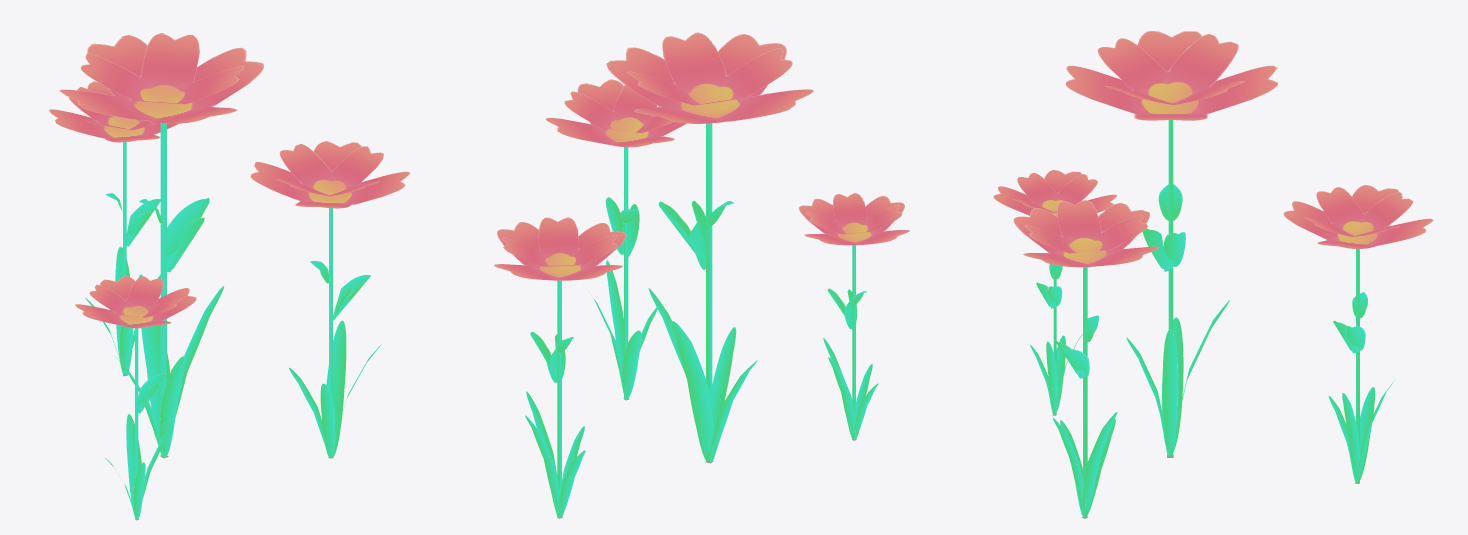
File: Flower_n_06.fbx
3 views of the same model, side by side, from view 1: azimuth 30°, elevation 25°; view 2: azimuth 150°, elevation 25°; view 3: azimuth 270°, elevation 25° (orthographic).
Parts seen in each view (by area): view 1: polySurface328; view 2: polySurface328; view 3: polySurface328.
Boxes of the visible parts, <box> form: polySurface328: <box>49,33,409,520</box>; polySurface328: <box>494,32,909,518</box>; polySurface328: <box>993,31,1433,518</box>.
Size of the model in its own units: 63.92 by 64.39 by 71.35.
Materials: 2 (1 with a texture image).
